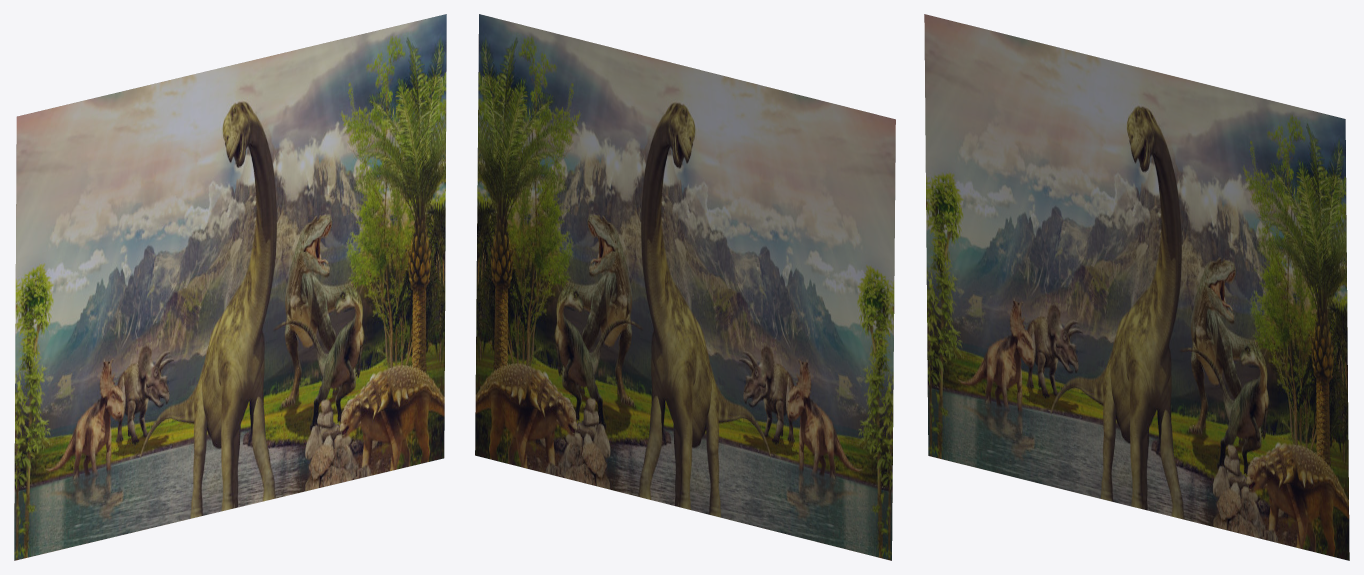
Rendered from Dinosaurios.obj.
The picture shows the model from 3 angles, left to right: view 1: azimuth 30°, elevation 25°; view 2: azimuth 150°, elevation 25°; view 3: azimuth 330°, elevation 25°; orthographic projection.
Visible parts, largest first — view 1: Rio1:pPlane1; view 2: Rio1:pPlane1; view 3: Rio1:pPlane1.
Part boxes in pixels (x1,y1,x2,y2): Rio1:pPlane1: [14, 14, 446, 560]; Rio1:pPlane1: [475, 14, 895, 560]; Rio1:pPlane1: [924, 14, 1349, 560].
Size of the model in its own units: 100 by 100 by 2.57.
1 material, 1 textured.
